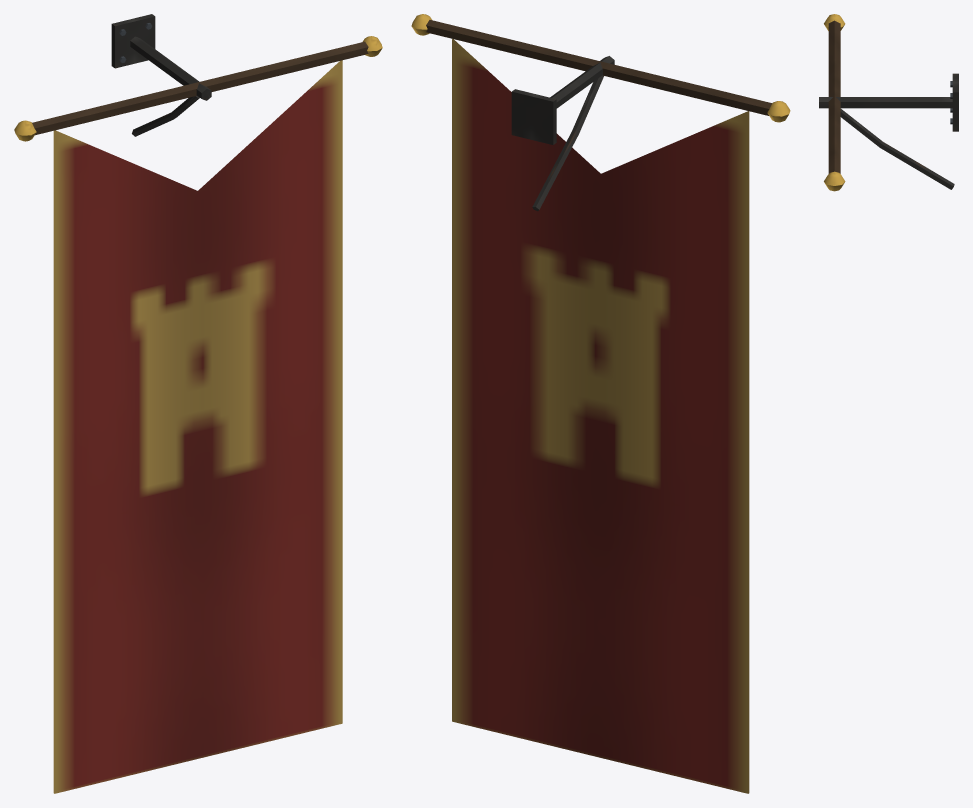
Rendered from banner_cs_red.obj.
The picture shows the model from 3 angles, left to right: view 1: azimuth 30°, elevation 25°; view 2: azimuth 150°, elevation 25°; view 3: azimuth 270°, elevation 25°; orthographic projection. The views are drawn at different scales.
Parts seen in each view (by area): view 1: banner_cs_red_cloth, banner_cs_red; view 2: banner_cs_red_cloth, banner_cs_red; view 3: banner_cs_red.
Boxes of the visible parts, x1=… form: banner_cs_red_cloth: x1=53, y1=60, x2=342, y2=793; banner_cs_red: x1=14, y1=14, x2=382, y2=141; banner_cs_red_cloth: x1=452, y1=39, x2=749, y2=793; banner_cs_red: x1=411, y1=14, x2=790, y2=211; banner_cs_red: x1=819, y1=14, x2=958, y2=191.
Size of the model in its own units: 1.27 by 2.29 by 0.45.
1 material, 1 textured.
